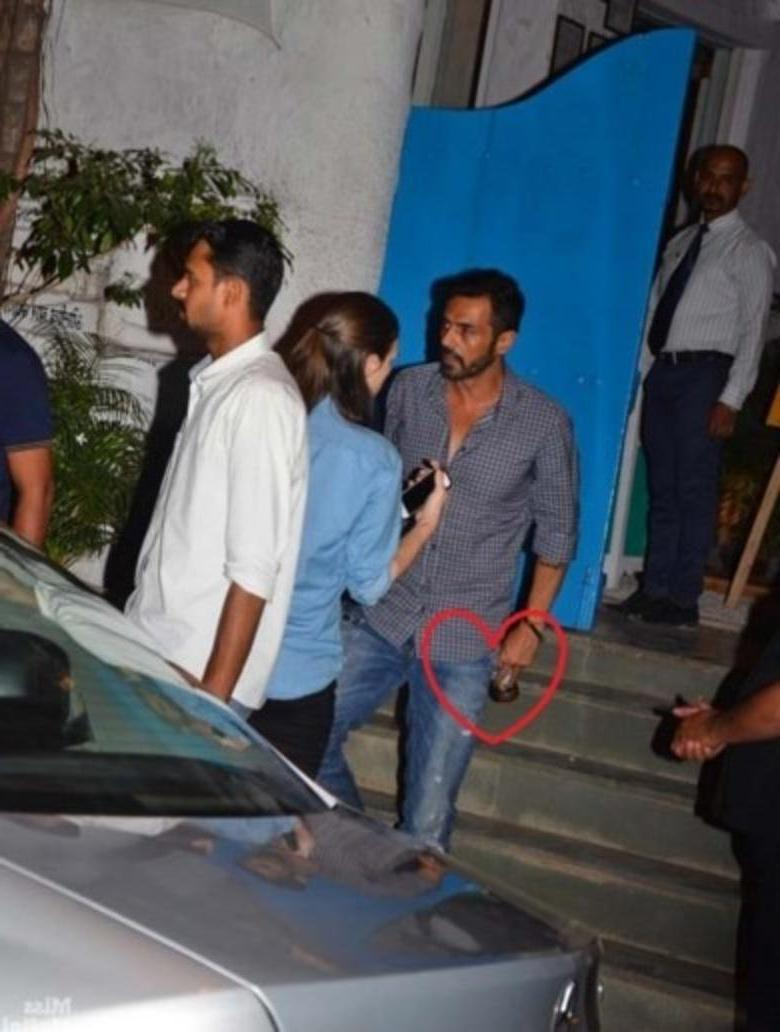Drunk: (437, 293, 497, 375)
